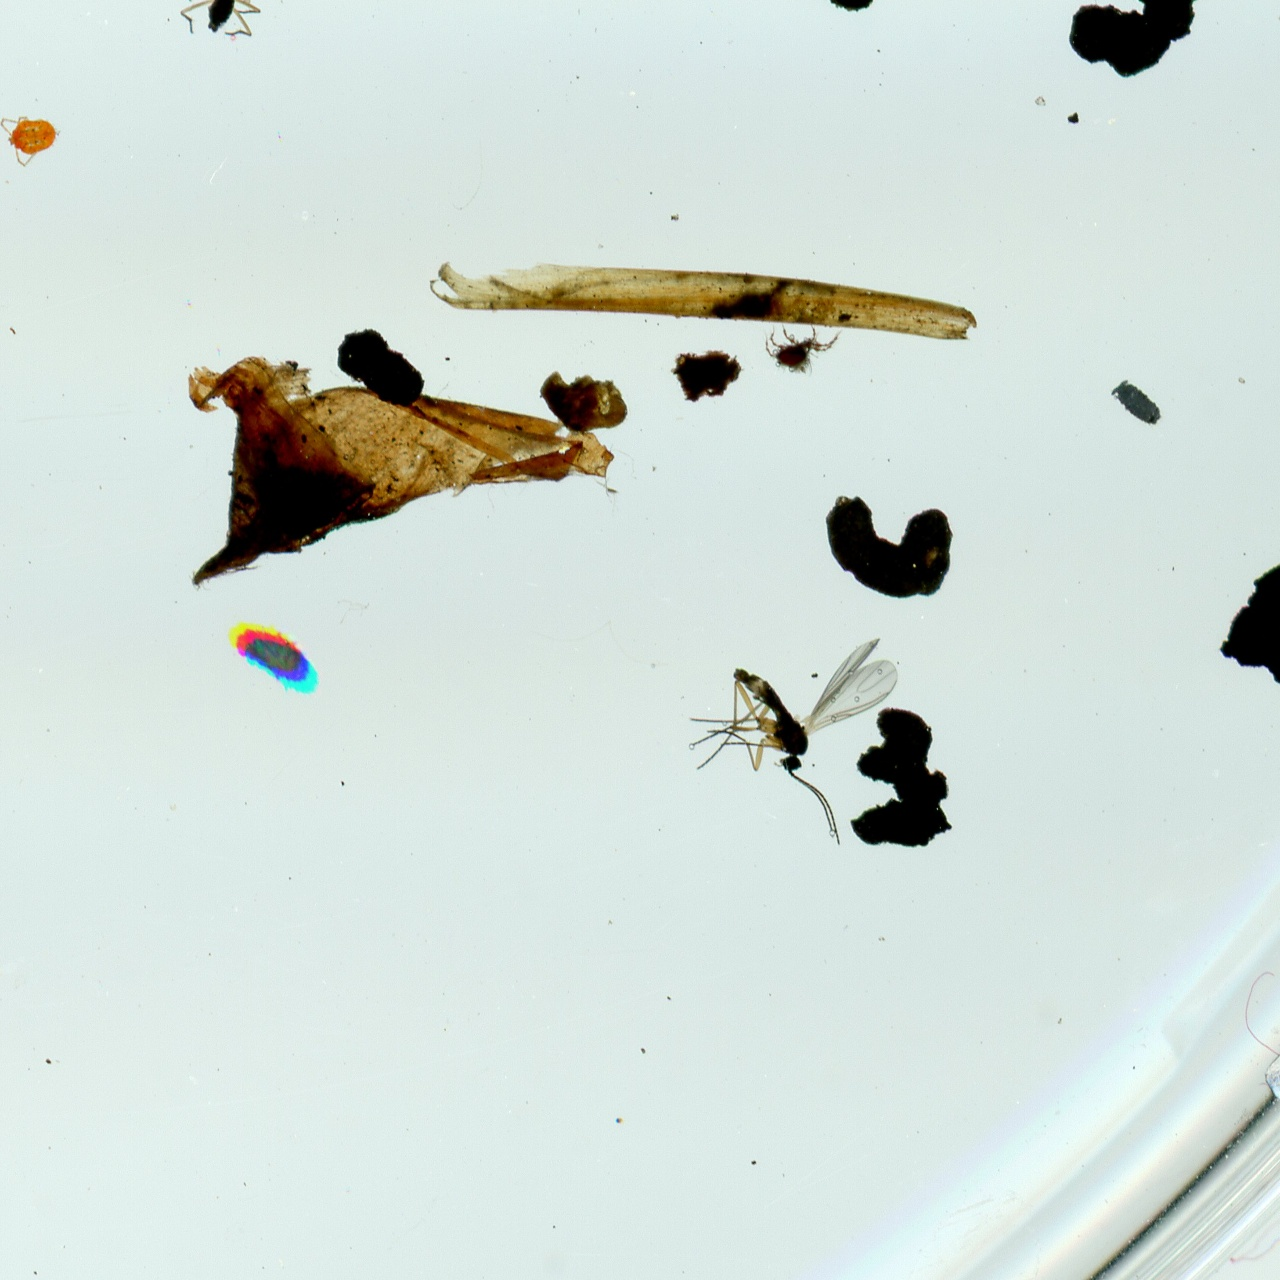arthropod: (678, 635, 906, 847), (137, 0, 354, 45), (218, 617, 319, 699), (753, 322, 844, 383), (1101, 368, 1176, 442), (0, 113, 66, 170)
